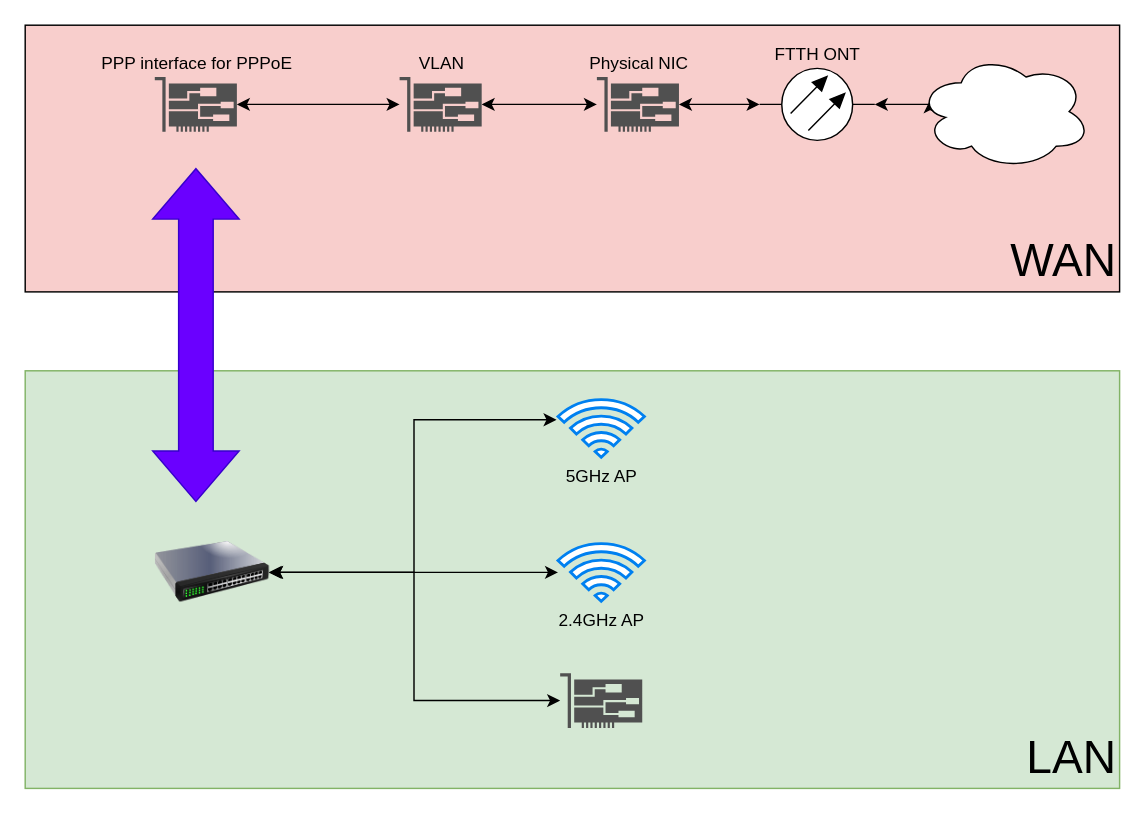
Some shapes in this 1145 by 814 pixel diagram are drawn without their labels. Each missing label, with the centre of its shape:
Internet: (1004,111)
LAN to WAN and WAN-to-LAN forwarding driven by iptables: (195,334)
Software Switch: (211,571)
Wired LAN: (600,699)
